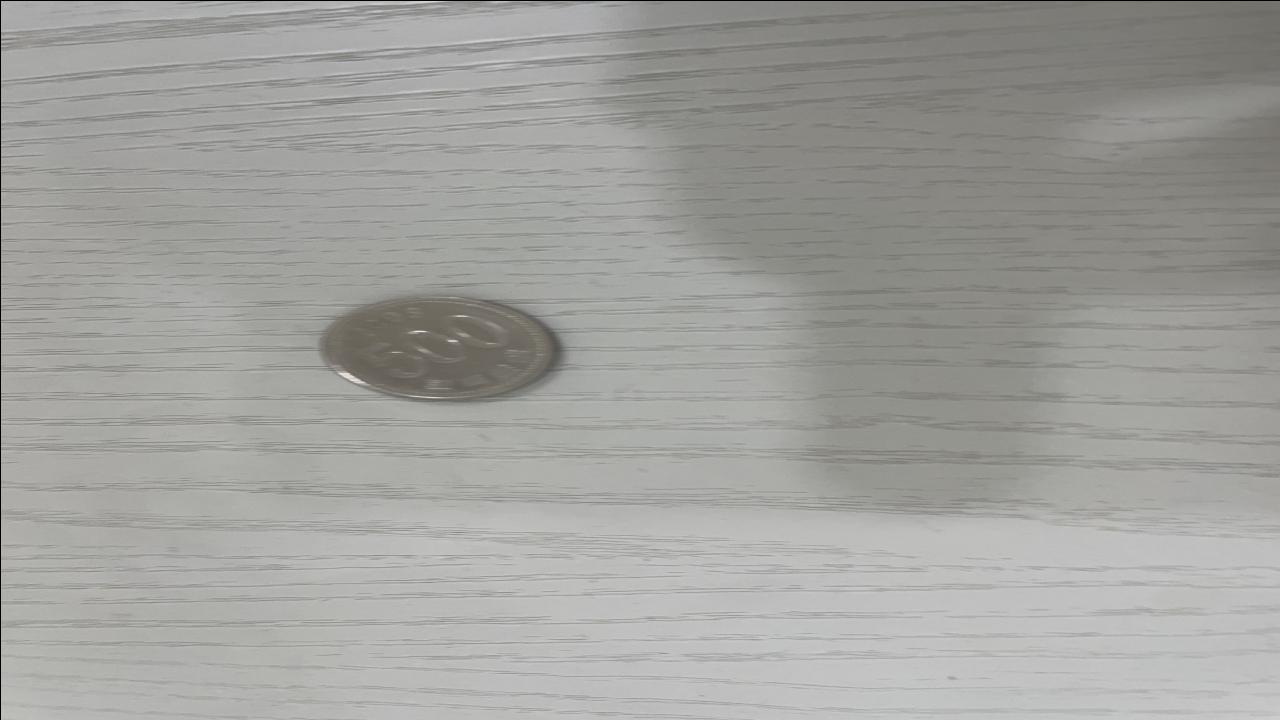coin: (306, 292, 566, 404)
